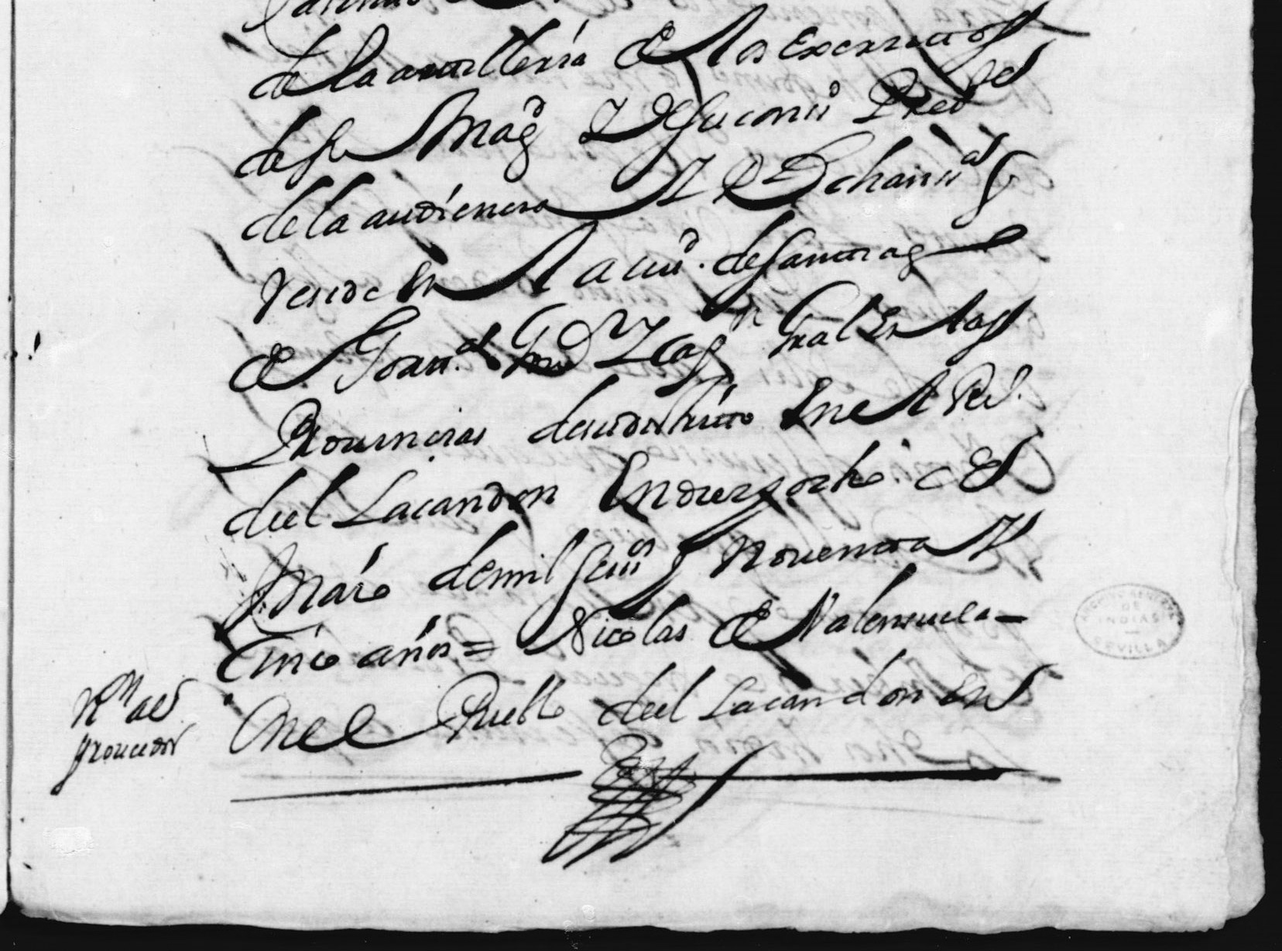lacandon: (698, 648, 922, 720), (331, 469, 558, 528)
